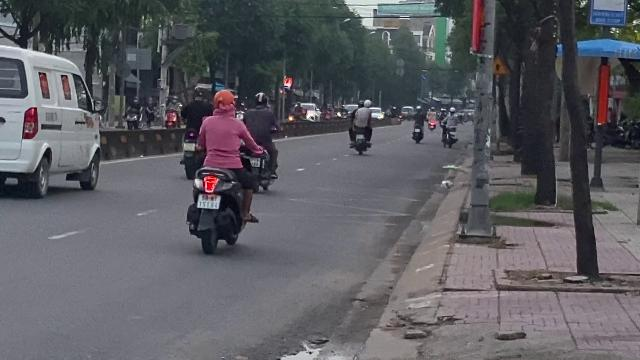helmet: (212, 88, 236, 114)
licenseplate: (198, 194, 220, 208)
motorcyclist: (182, 87, 258, 253)
